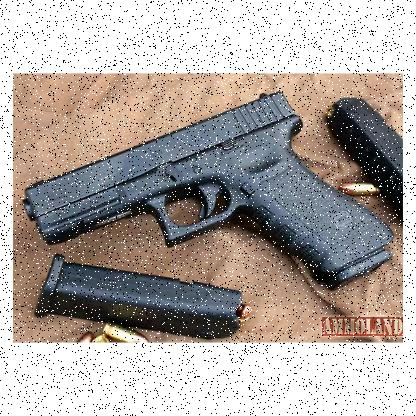gun: (21, 87, 393, 287)
